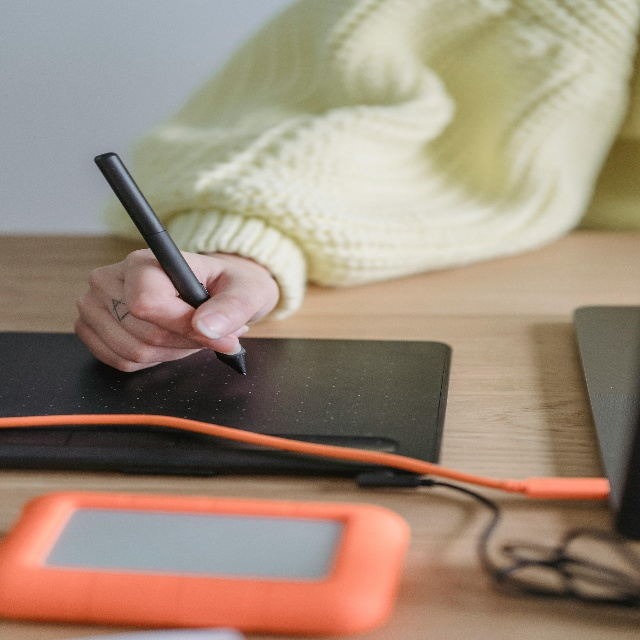Sin_guantes: (75, 230, 281, 379)
